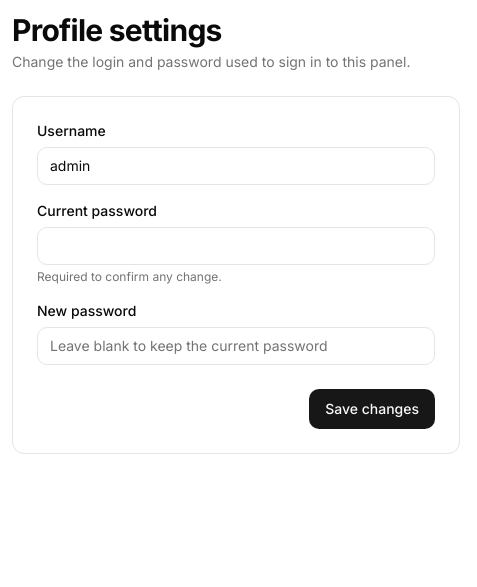
it: ProfileSettings › rejects mismatched password confirmation
Expected: the field labelled "Username" is shown, [37,147,435,185]
Type "brandnew1" into the password field labelled "New password".
click(236, 346); type("brandnew1")  # box [37,327,435,365]
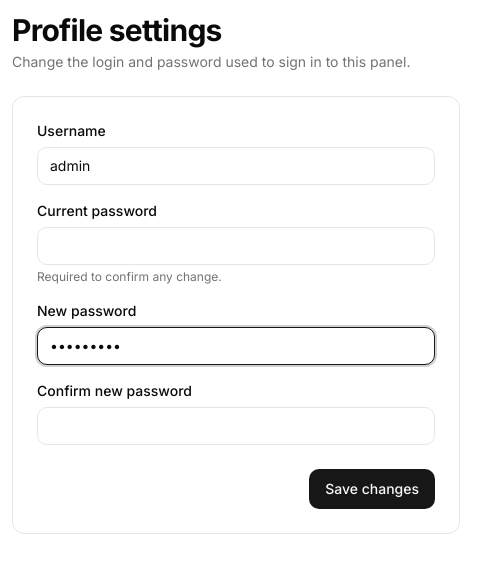
Type "different1" into the password field labelled "Confirm new password".
click(236, 426); type("different1")  # box [37,407,435,445]
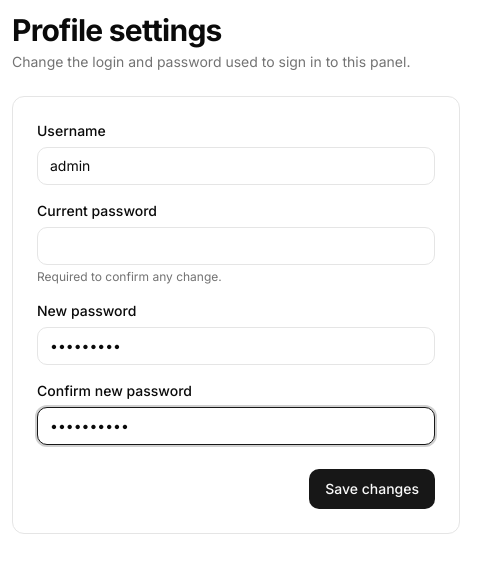
Type "secret" into the password field labelled "Current password".
click(236, 246); type("secret")  # box [37,227,435,265]
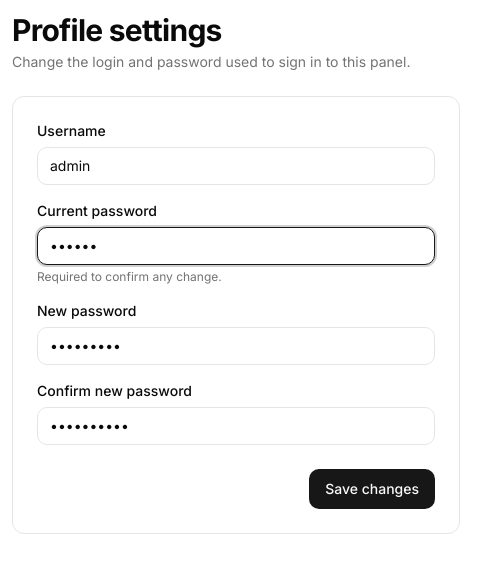
Click the button "Save changes".
click(372, 489)  # box [309,469,435,509]
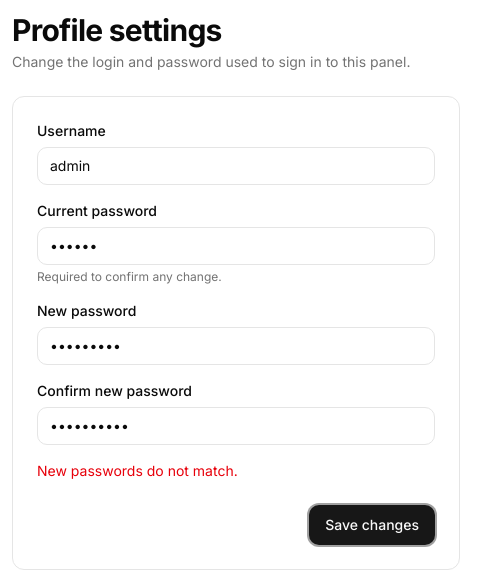
Expected: the text "New passwords do not match." is shown, [37,462,238,479]
